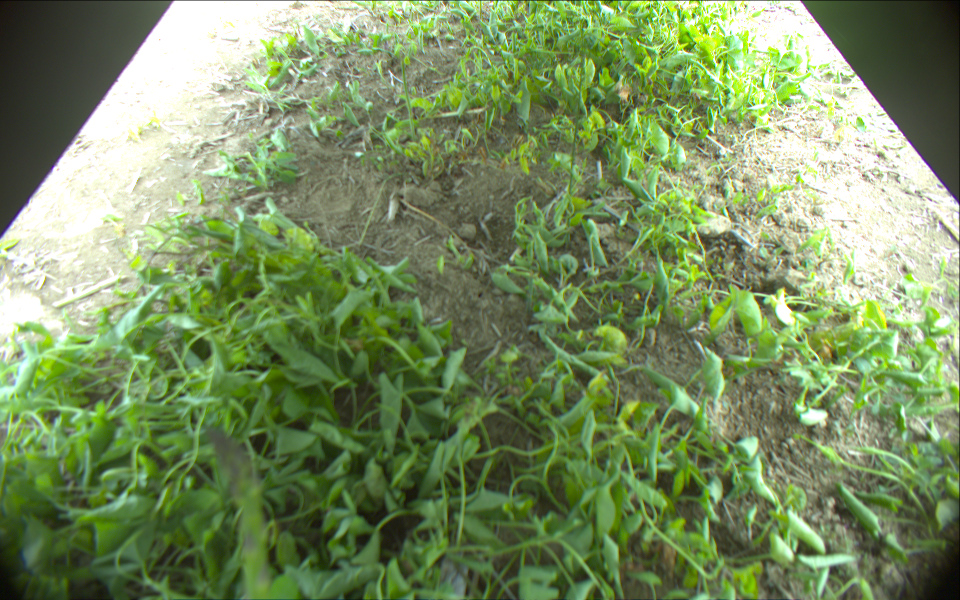aspa: (206, 424, 269, 600), (400, 48, 417, 144)
